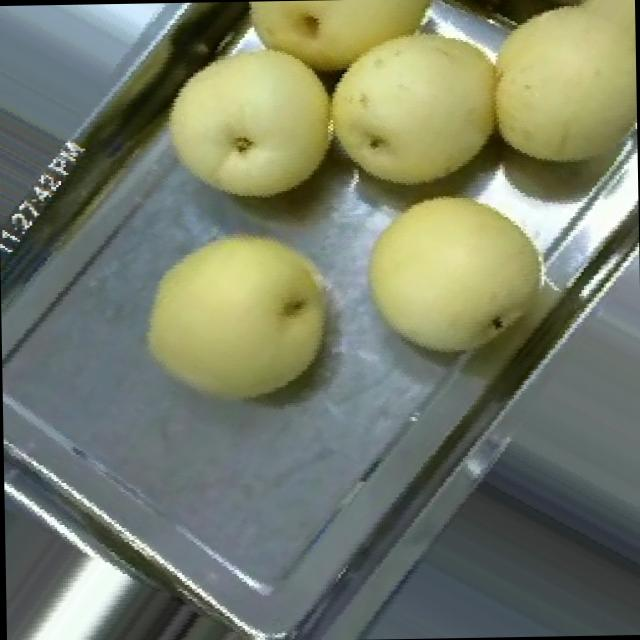Fruit: (344, 168, 572, 376), (125, 210, 346, 422), (225, 0, 476, 179), (144, 13, 356, 221), (446, 0, 637, 193)
